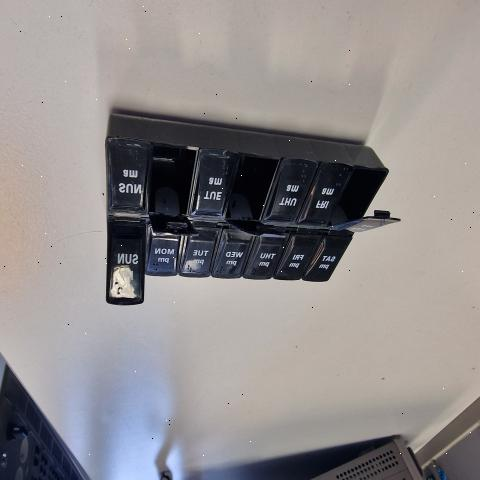Open: (224, 157, 297, 236), (148, 143, 200, 236), (330, 166, 399, 227), (142, 220, 147, 304)
